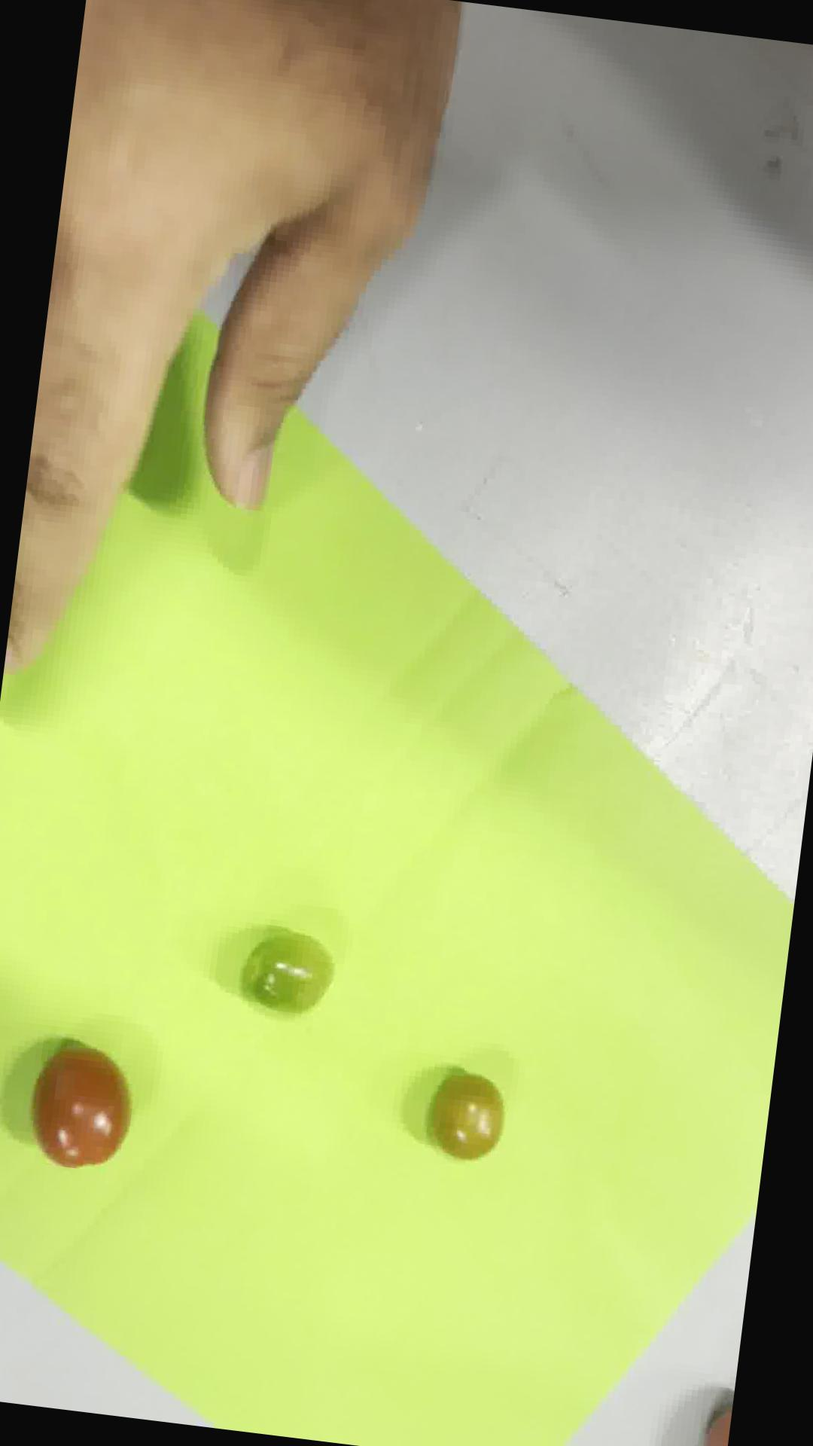green_cherry_tomato: (243, 930, 333, 1014)
red_cherry_tomato: (32, 1043, 129, 1167)
yellow_cherry_tomato: (430, 1071, 503, 1159)
